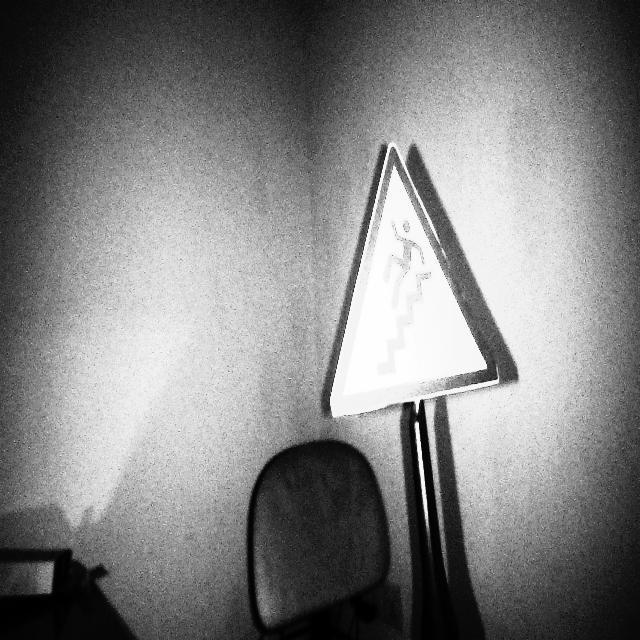Sign: (329, 141, 501, 421)
